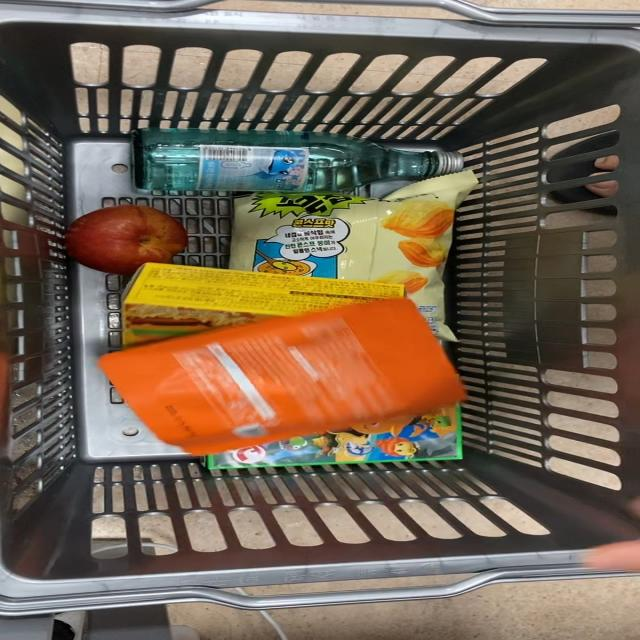cheesebagel: (120, 331, 480, 443)
ggobukchip: (224, 206, 491, 281)
goraebob: (200, 424, 466, 480)
jinro: (102, 129, 490, 198)
minicrab: (122, 271, 286, 325)
plum: (75, 201, 196, 272)
